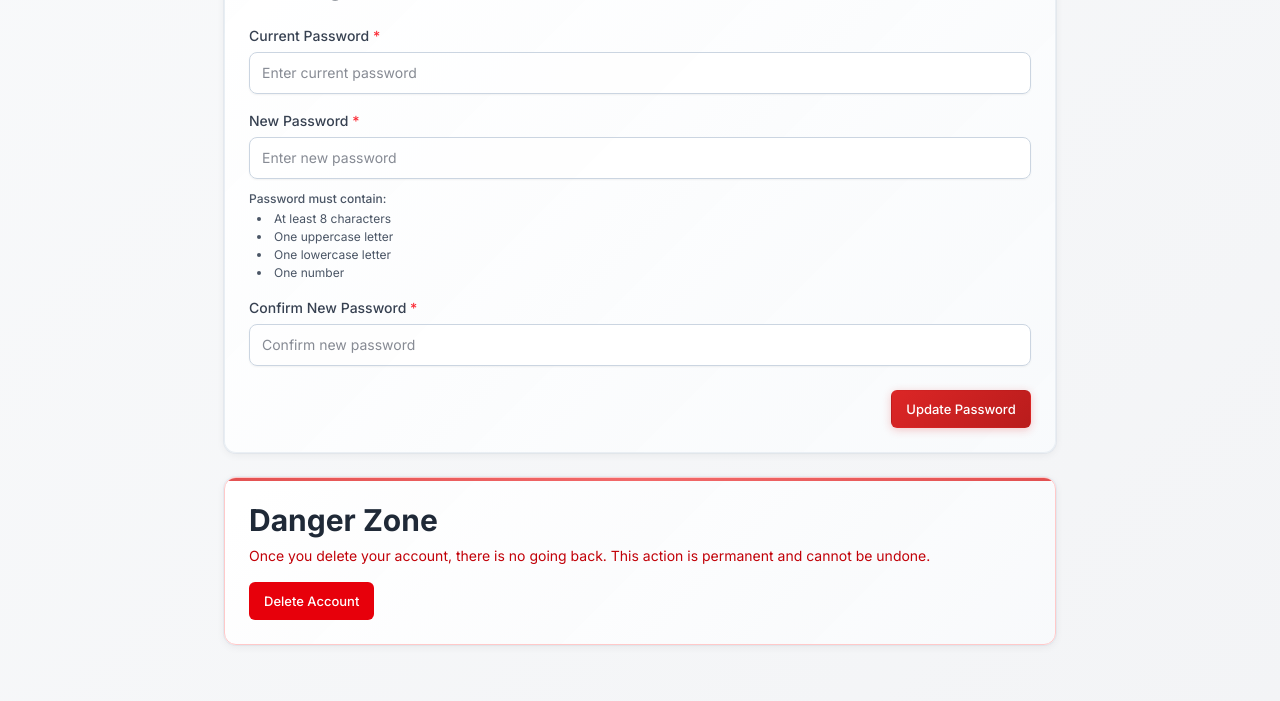
Test: ProfilePage › delete account flow › should close first modal on cancel
(page scrolled)
Click the button "Delete Account" at (312, 601), box [249,582,374,620]
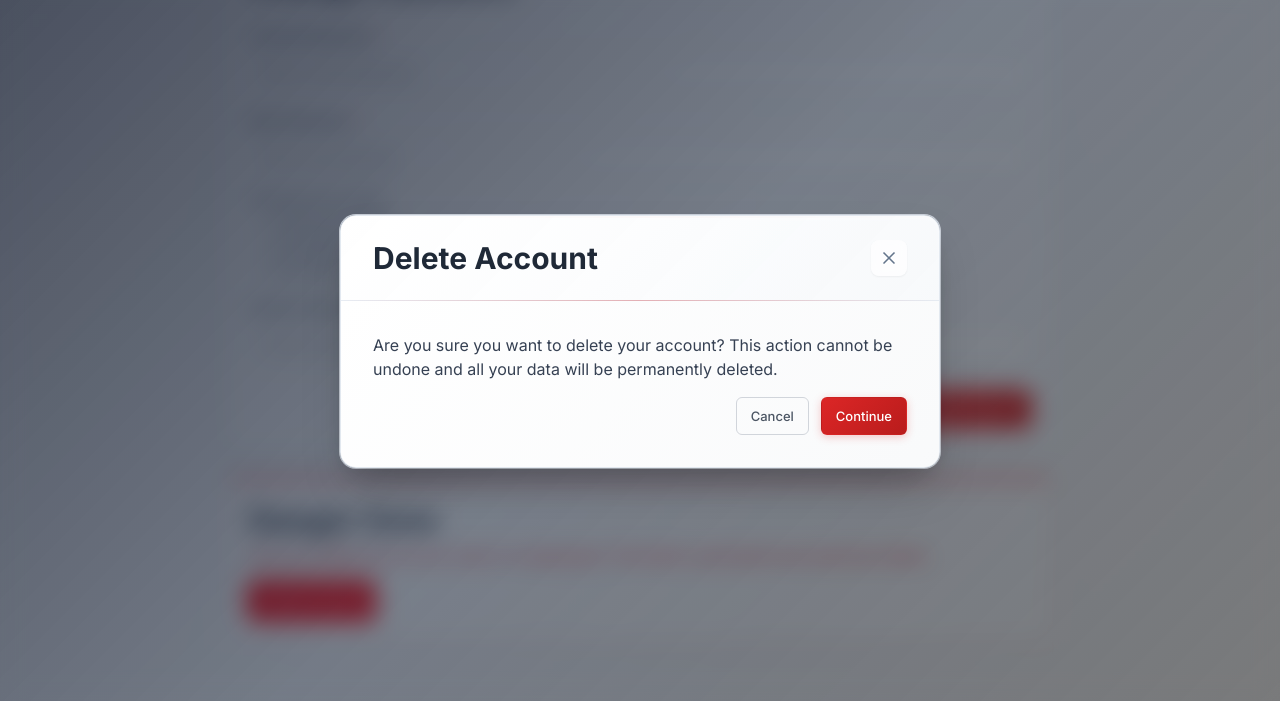
Expected: the button "Cancel" is shown
Click the button "Cancel" at (772, 416), box [736,396,809,434]
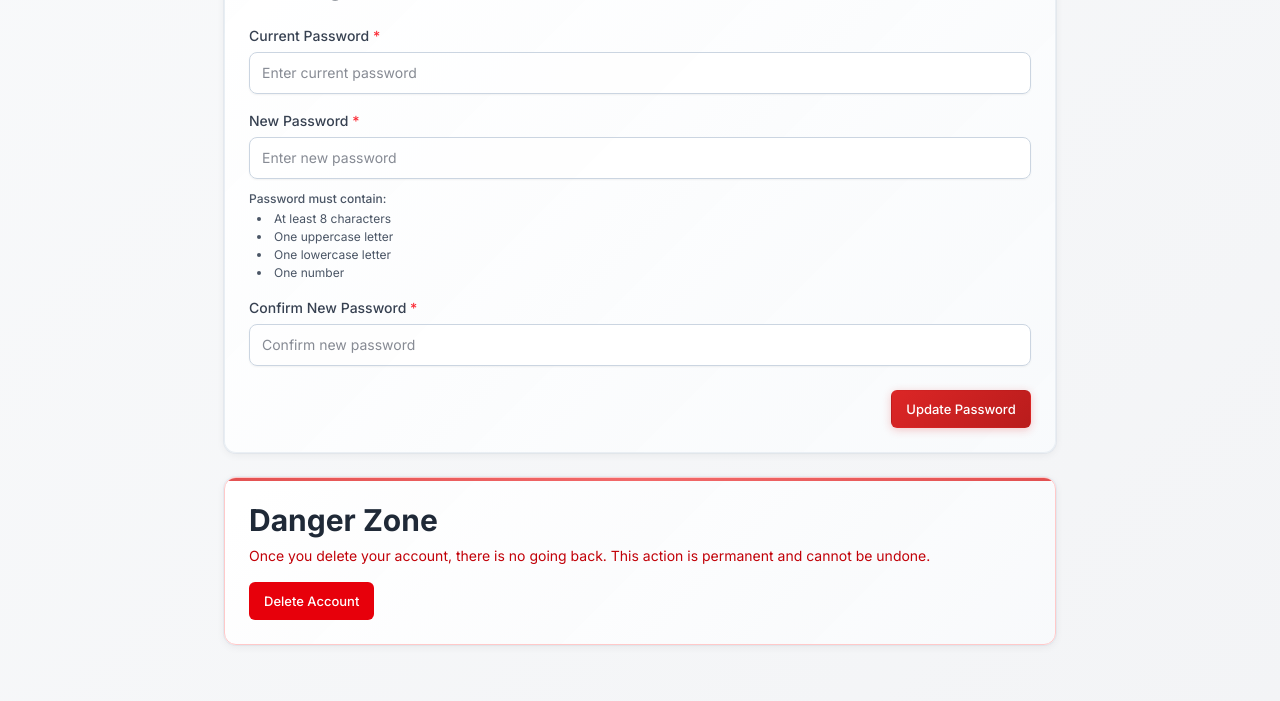
Expected: the text "Are you sure you want to delete your account" is gone
